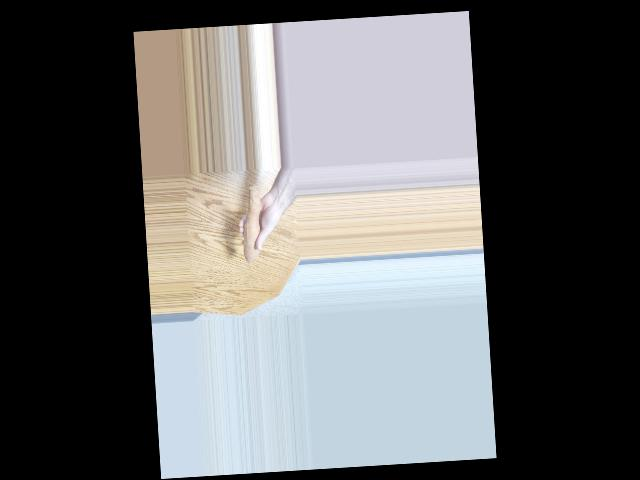sweet_potato: (237, 182, 266, 265)
